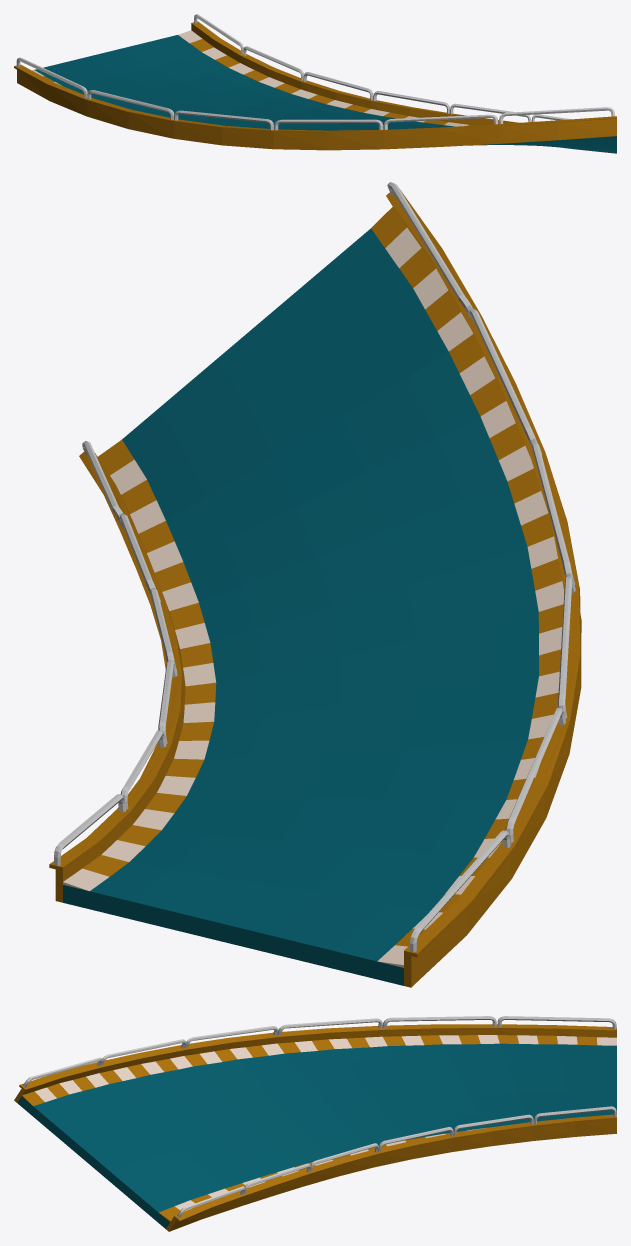
Rendered from curveLeft-60-Banked-30.FBX.
3 renders of one model, top to bottom at view 1: azimuth 30°, elevation 25°; view 2: azimuth 150°, elevation 25°; view 3: azimuth 270°, elevation 25°, orthographic. The views are drawn at different scales.
Visible parts, largest first — view 1: curveLeft-60-banked-30, wall_r, wall_l, curbs_l; view 2: curveLeft-60-banked-30, wall_r, curbs_r, curbs_l, wall_l; view 3: curveLeft-60-banked-30, wall_l, wall_r, curbs_r, curbs_l.
Part boxes in pixels (left/top/right/bottom): curveLeft-60-banked-30: left=34, top=35, right=616, bottom=153; wall_r: left=14, top=57, right=616, bottom=150; wall_l: left=191, top=14, right=616, bottom=153; curbs_l: left=178, top=30, right=473, bottom=126; curveLeft-60-banked-30: left=63, top=228, right=538, bottom=985; wall_r: left=386, top=182, right=581, bottom=987; curbs_r: left=371, top=207, right=563, bottom=967; curbs_l: left=63, top=439, right=216, bottom=891; wall_l: left=49, top=441, right=185, bottom=902; curveLeft-60-banked-30: left=17, top=1043, right=616, bottom=1228; wall_l: left=166, top=1106, right=616, bottom=1231; wall_r: left=14, top=1016, right=616, bottom=1102; curbs_r: left=21, top=1035, right=616, bottom=1105; curbs_l: left=159, top=1127, right=487, bottom=1221.
Size of what is drawn, in the model's own units: 434 by 131 by 583.
